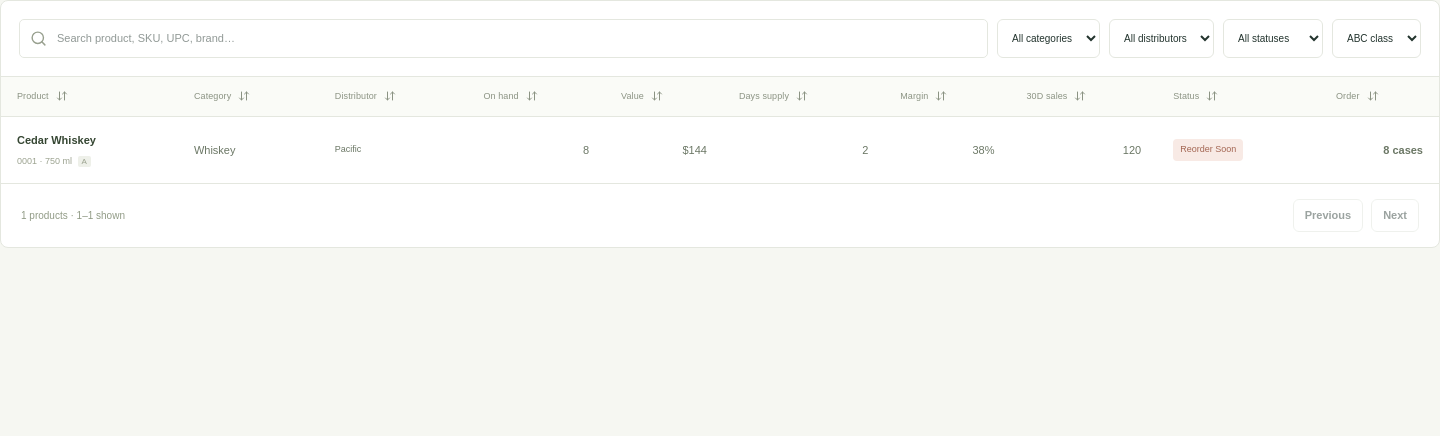
Test: inventory exploration › filters by stock status
Select "Dead stock" in the dropdown named "Stock status". click: (1273,38)
box: [1223,19,1323,58]
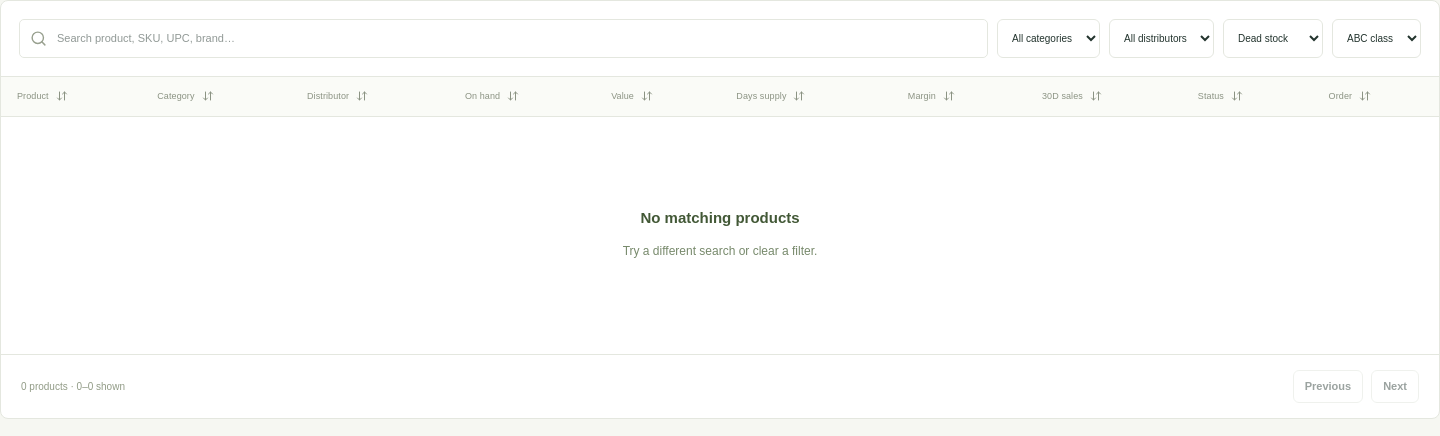
expect the link "Cedar Whiskey" is gone: met
